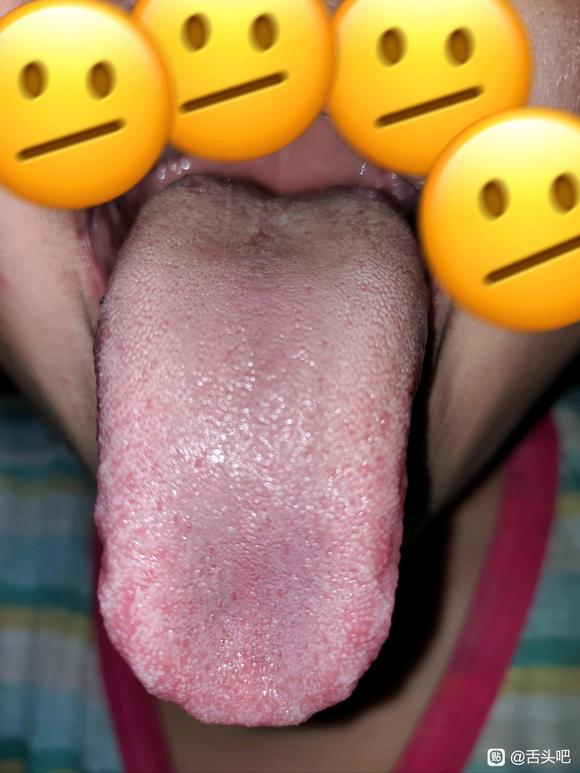baitaishe: (93, 174, 429, 725)
shenquao: (188, 174, 354, 216)
